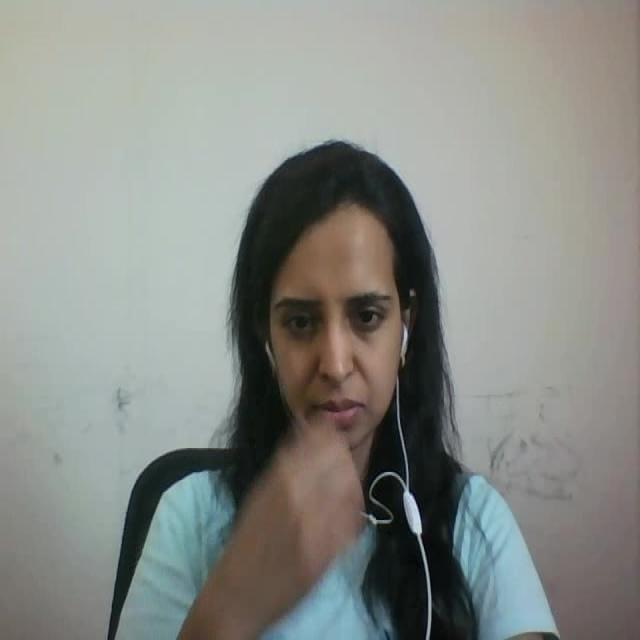Bored: (234, 126, 445, 476)
